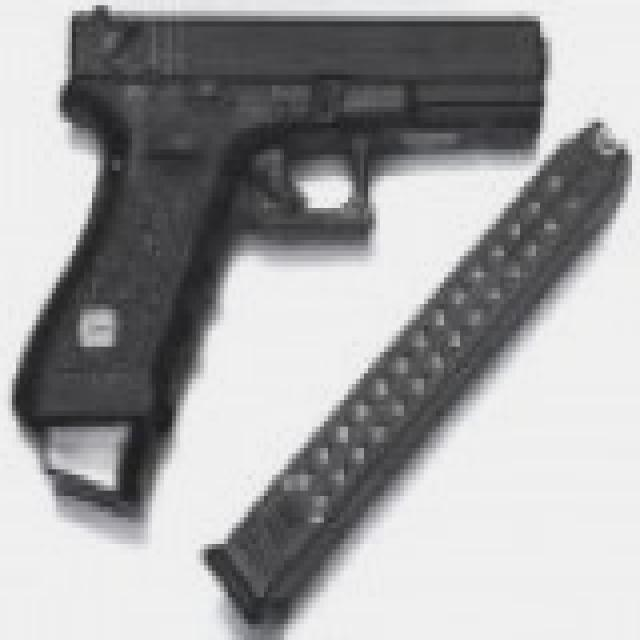pistol: (24, 0, 552, 501)
